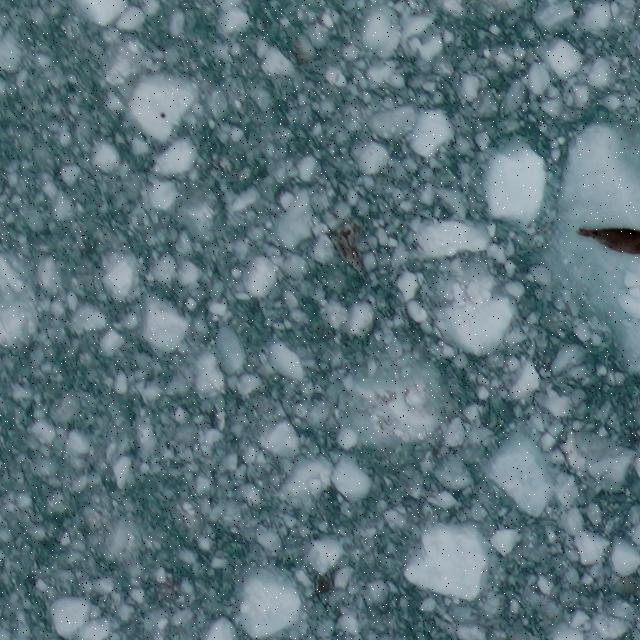seal: (570, 220, 640, 265)
